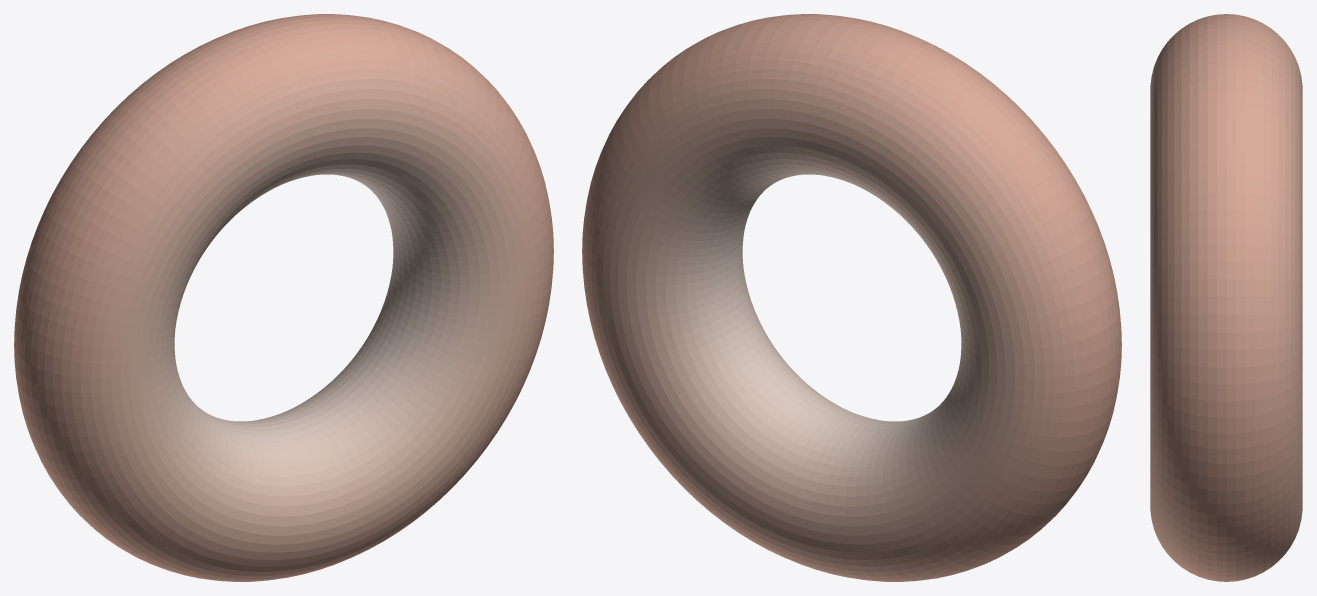
The picture shows the model from 3 angles, left to right: view 1: azimuth 30°, elevation 25°; view 2: azimuth 150°, elevation 25°; view 3: azimuth 270°, elevation 25°; orthographic projection. The views are drawn at different scales.
Visible parts, largest first — view 1: world; view 2: world; view 3: world.
Boxes of the visible parts, <box> form: world: <box>14,14,553,581</box>; world: <box>582,14,1121,581</box>; world: <box>1150,14,1302,581</box>.
Bounding box in the file's own units: 27.33 × 27.33 × 7.32.
